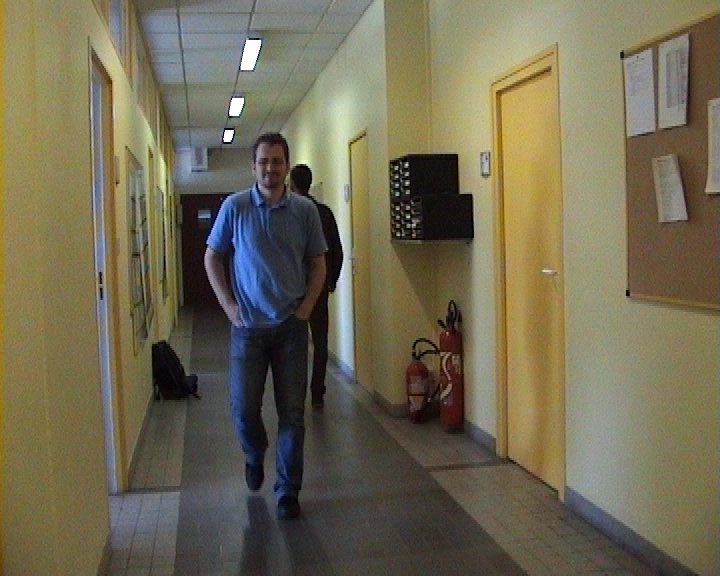leave bag unattended: (114, 313, 406, 503)
